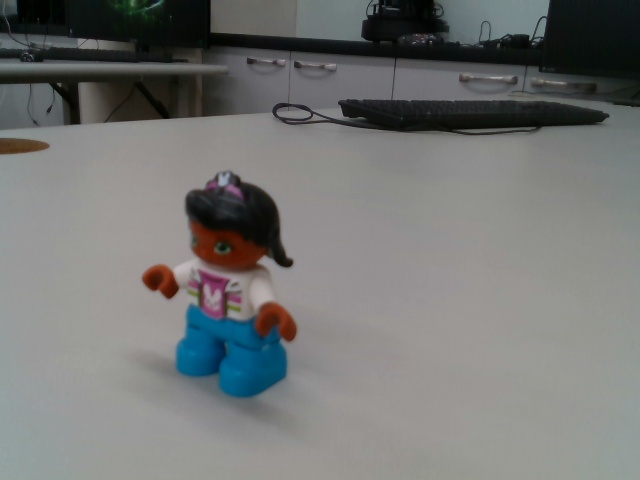people: (140, 168, 300, 399)
